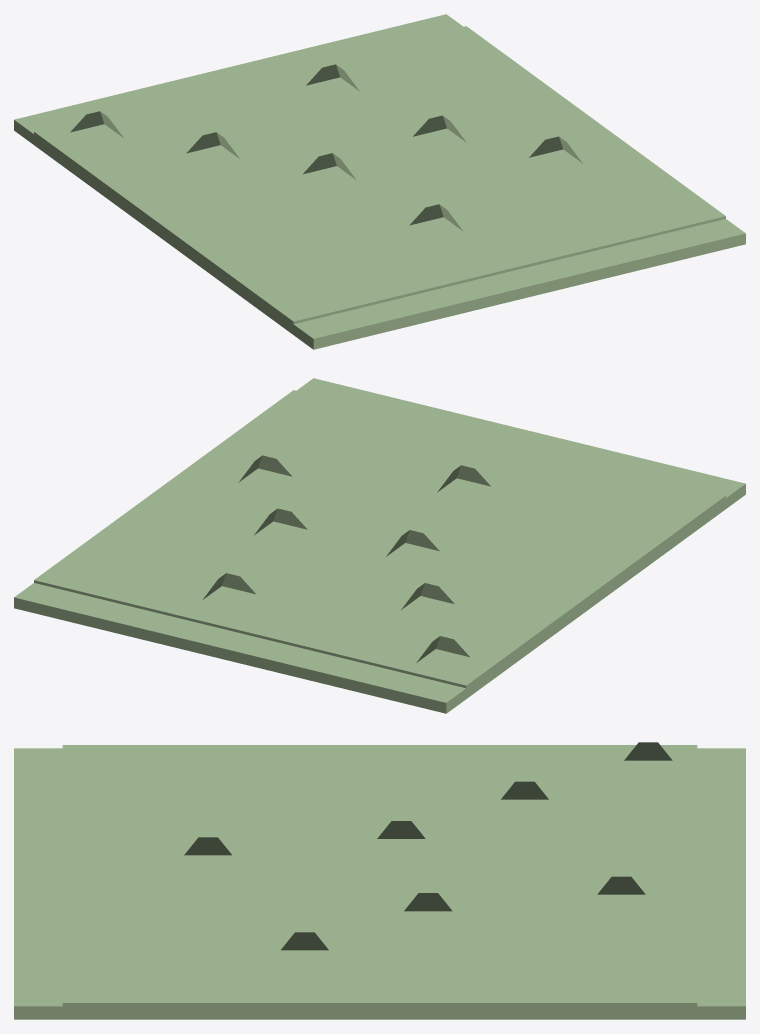
Rendered from retro-diner-and-roadside-motel-verge-module-a4efb6b0__37356.glb.
3 views of the same model, one above another, from view 1: azimuth 30°, elevation 25°; view 2: azimuth 150°, elevation 25°; view 3: azimuth 270°, elevation 25° (orthographic). The views are drawn at different scales.
Parts seen in each view (by area): view 1: verge-module-sage; view 2: verge-module-sage; view 3: verge-module-sage.
Boxes of the visible parts, x1,y1,x2,y2 form: verge-module-sage: (14, 14, 745, 349); verge-module-sage: (14, 378, 745, 713); verge-module-sage: (14, 742, 745, 1019).
Bounding box in the file's own units: 5 × 0.3699 × 6.
